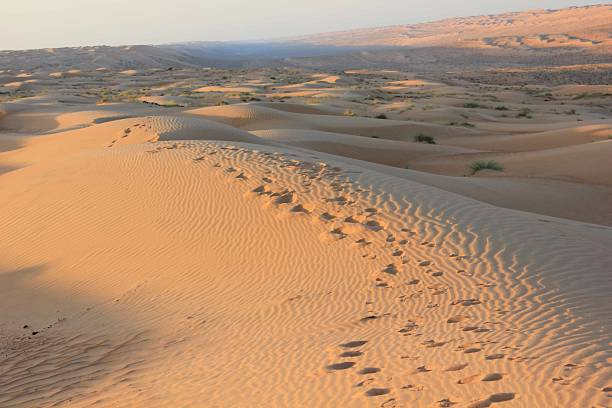human_footprint: (308, 192, 489, 339), (372, 243, 469, 327), (325, 340, 390, 397), (466, 392, 515, 407), (457, 373, 503, 384), (107, 127, 131, 147), (271, 189, 296, 205), (359, 311, 393, 322), (455, 342, 482, 353), (290, 203, 315, 214), (325, 361, 355, 370), (325, 227, 347, 239), (363, 219, 384, 231), (451, 298, 481, 306), (365, 387, 390, 396), (339, 340, 367, 348), (457, 374, 479, 384), (420, 339, 447, 347), (461, 325, 491, 332), (436, 397, 457, 407), (445, 362, 468, 371), (251, 184, 271, 194), (319, 211, 337, 222), (382, 263, 398, 274), (446, 315, 468, 323), (481, 373, 503, 381), (338, 350, 363, 357), (353, 238, 371, 247), (357, 367, 380, 374), (485, 353, 504, 360), (235, 171, 248, 180)
